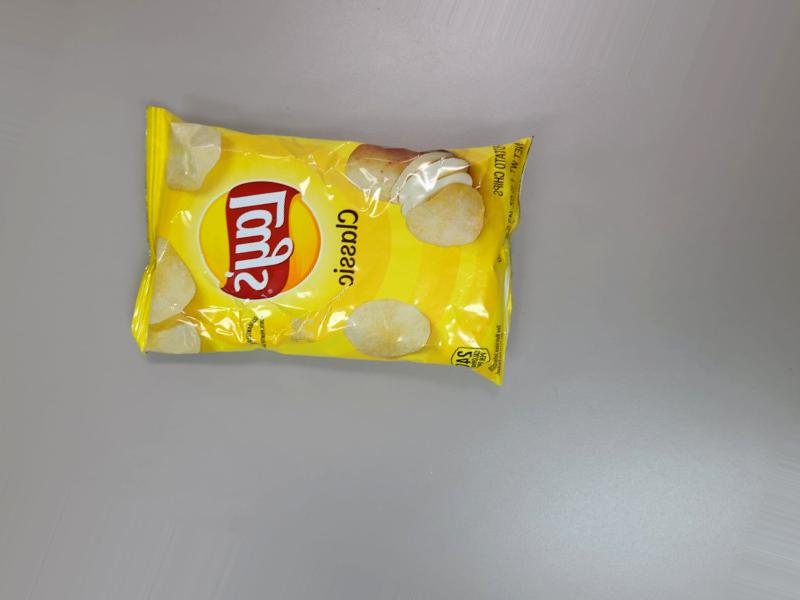lays: (133, 116, 532, 385)
